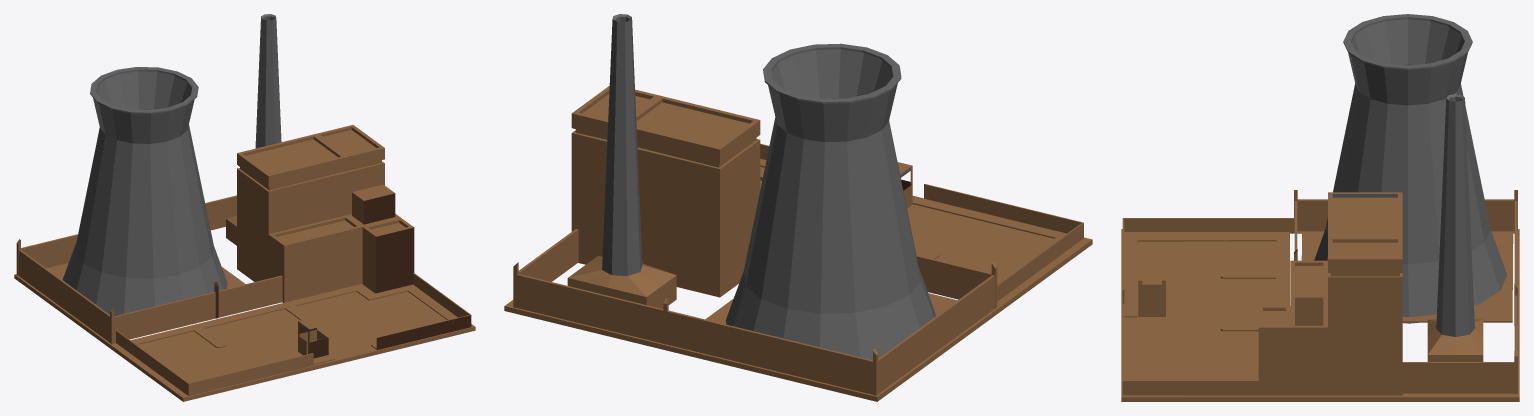
The model's file is Industry.fbx.
3 views of the same model, side by side, from view 1: azimuth 30°, elevation 25°; view 2: azimuth 150°, elevation 25°; view 3: azimuth 270°, elevation 25° (orthographic). The views are drawn at different scales.
Visible parts, largest first — view 1: Industry; view 2: Industry; view 3: Industry.
Boxes of the visible parts, x1=… form: Industry: x1=14, y1=14, x2=475, y2=401; Industry: x1=504, y1=14, x2=1092, y2=401; Industry: x1=1121, y1=14, x2=1519, y2=401.
Size of the model in its own units: 806 by 595 by 806.
1 material, 1 textured.
